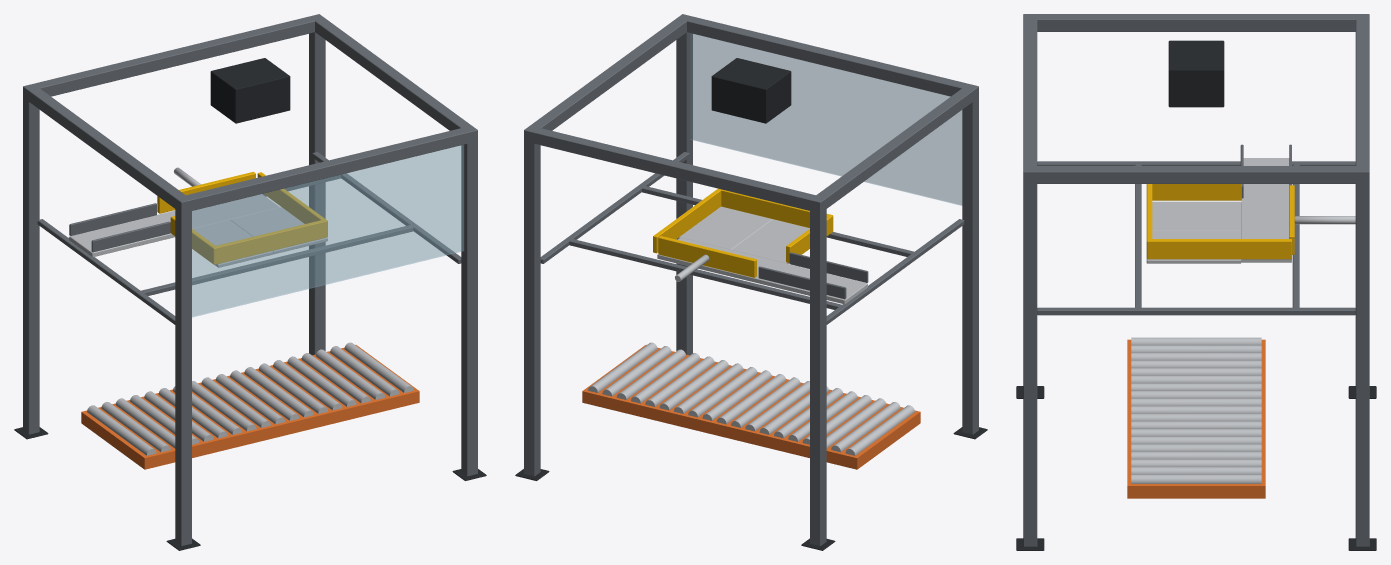
File: palletizer.glb
3 views of the same model, side by side, from view 1: azimuth 30°, elevation 25°; view 2: azimuth 150°, elevation 25°; view 3: azimuth 270°, elevation 25° (orthographic). The views are drawn at different scales.
Visible parts, largest first — view 1: Palletizer_Static, ElevatorTable, Leaf_B, Leaf_A, Pusher; view 2: Palletizer_Static, ElevatorTable, Leaf_B, Pusher, Leaf_A; view 3: Palletizer_Static, ElevatorTable, Leaf_A, Leaf_B, Pusher.
Part boxes in pixels (x1,y1,x2,y2): Palletizer_Static: (14, 14, 486, 550); ElevatorTable: (81, 342, 419, 469); Leaf_B: (230, 207, 327, 254); Leaf_A: (193, 220, 272, 267); Pusher: (157, 167, 255, 213); Palletizer_Static: (515, 14, 987, 550); ElevatorTable: (582, 342, 920, 469); Leaf_B: (676, 206, 772, 249); Pusher: (658, 236, 756, 281); Leaf_A: (731, 219, 809, 263); Palletizer_Static: (1016, 14, 1376, 550); ElevatorTable: (1127, 337, 1265, 498); Leaf_A: (1152, 201, 1241, 231); Leaf_B: (1146, 231, 1241, 263); Pusher: (1289, 185, 1355, 254).
Bounding box in the file's own units: 2.8 × 3.3 × 2.6.
